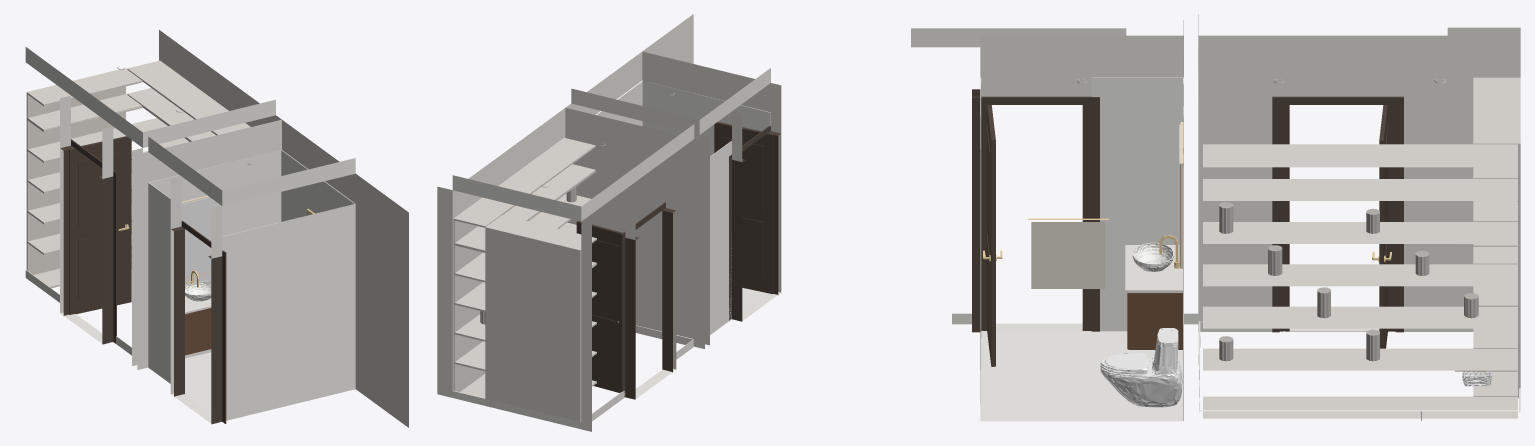
Rendered from PWD.glb.
3 views of the same model, side by side, from view 1: azimuth 30°, elevation 25°; view 2: azimuth 150°, elevation 25°; view 3: azimuth 270°, elevation 25° (orthographic). The views are drawn at different scales.
Visible parts, largest first — view 1: WEB_PWD; view 2: WEB_PWD; view 3: WEB_PWD.
Boxes of the visible parts, x1,y1,x2,y2 form: WEB_PWD: [25, 30, 408, 427]; WEB_PWD: [437, 14, 781, 431]; WEB_PWD: [911, 14, 1520, 421].
Size of the model in its own units: 2.19 by 3 by 5.88.
